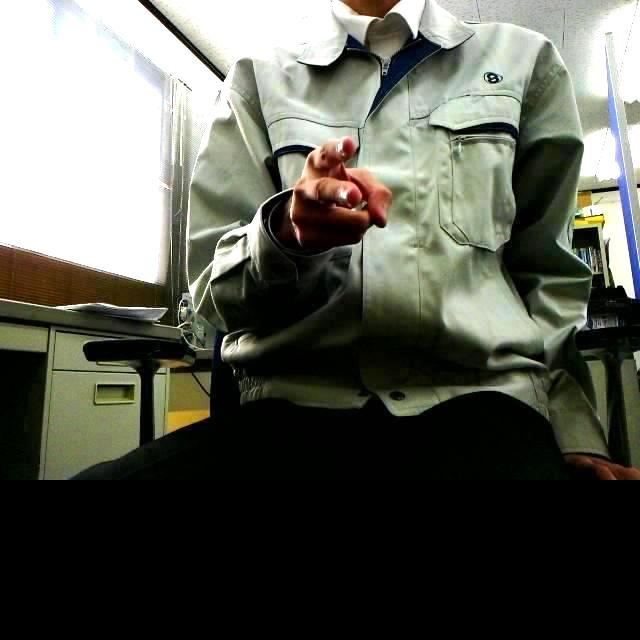tyoki: (289, 136, 394, 253)
